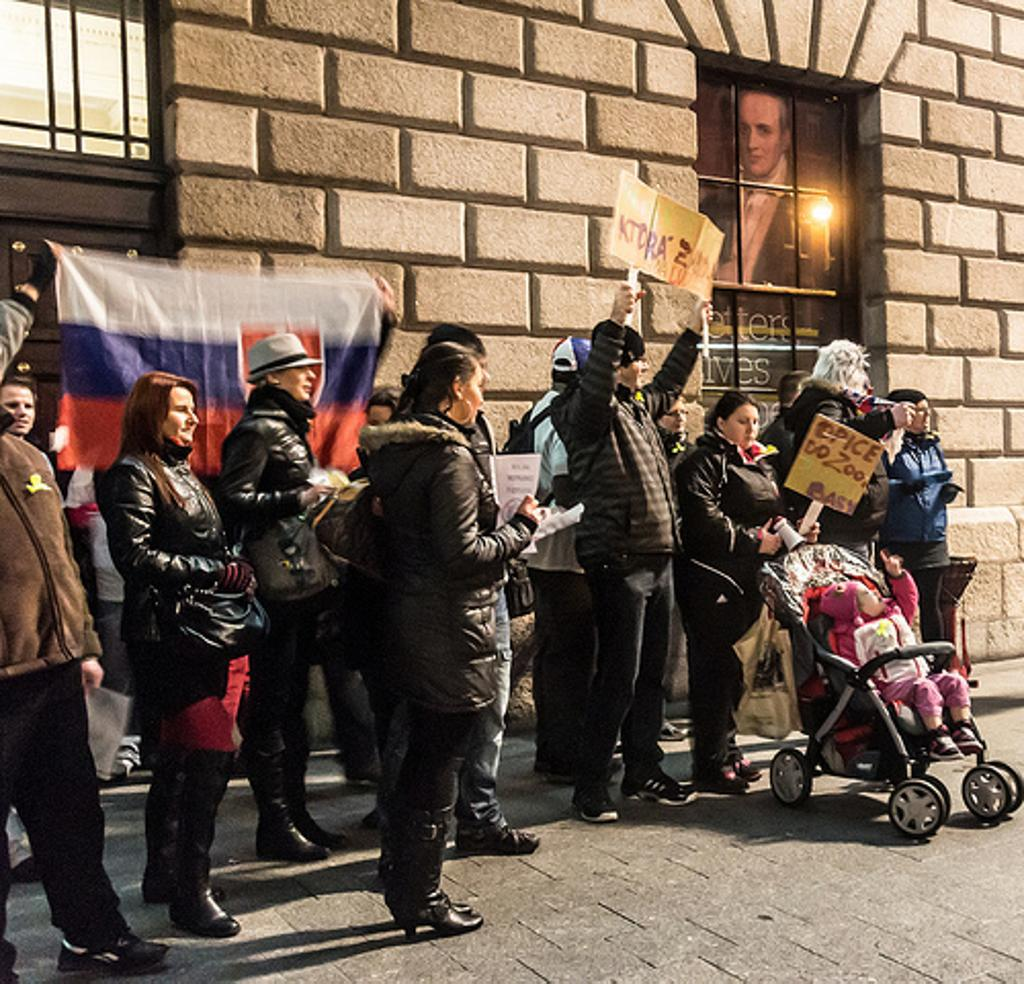face: (733, 111, 781, 177), (366, 415, 412, 469), (454, 355, 490, 414), (452, 369, 485, 427), (162, 397, 199, 442), (282, 356, 317, 399), (613, 350, 650, 390), (2, 392, 36, 433), (727, 411, 760, 448), (661, 404, 688, 433), (906, 401, 931, 432), (854, 587, 887, 609)
